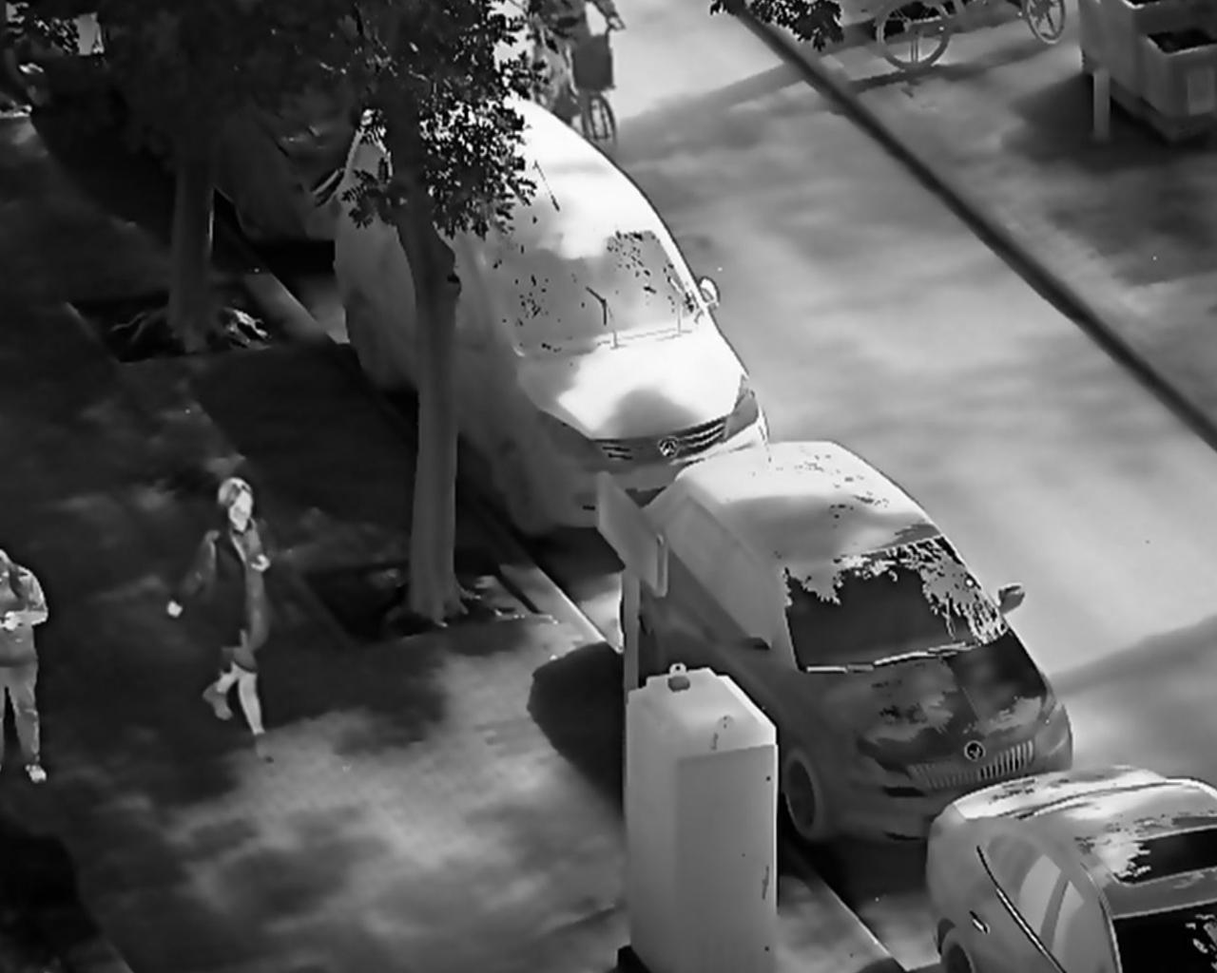person: (168, 471, 277, 768)
